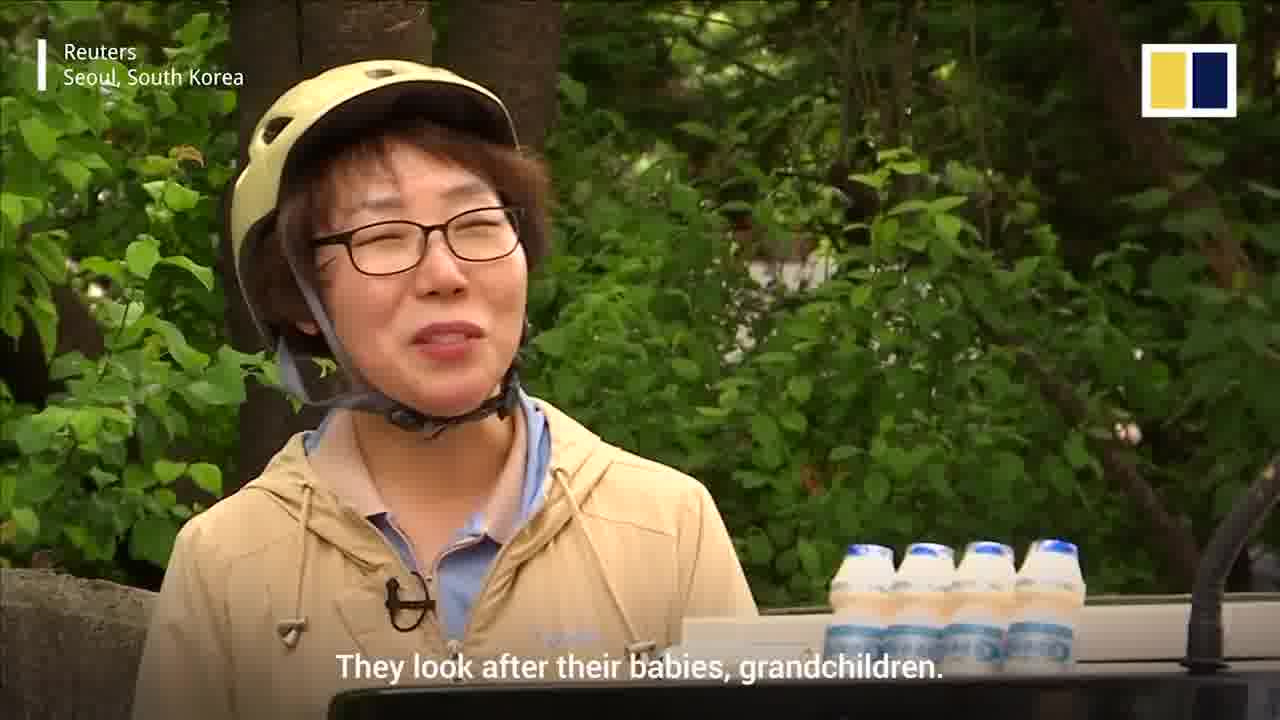Yakurut: (129, 45, 804, 688)
